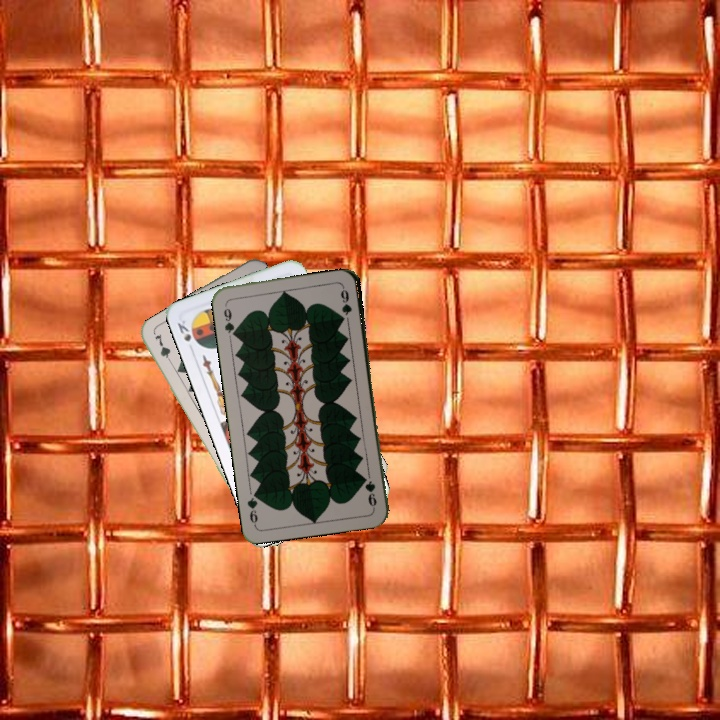G7: (150, 330, 176, 369)
G9: (220, 300, 239, 339), (361, 477, 379, 511)
SK: (173, 316, 194, 344)
